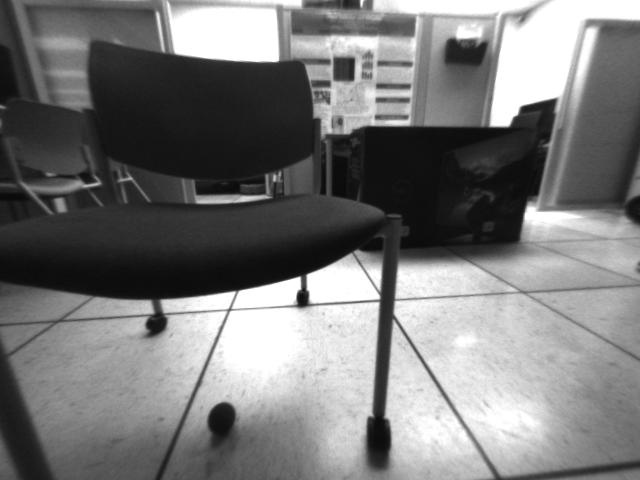dogtoy: (203, 393, 242, 444)
